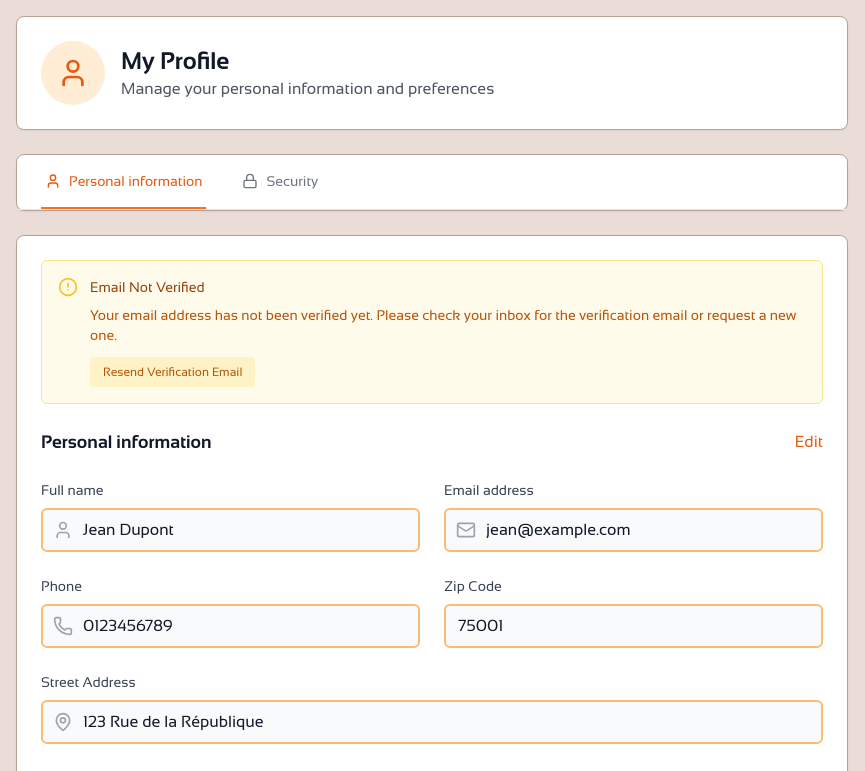
Profile Component › Personal Information Tab - Edit Mode › should show Save and Cancel buttons when editing and handle cancel correctly
The width and height of the screenshot is (865, 771).
Click the button "Edit": [809, 442] box [795, 430, 823, 454]
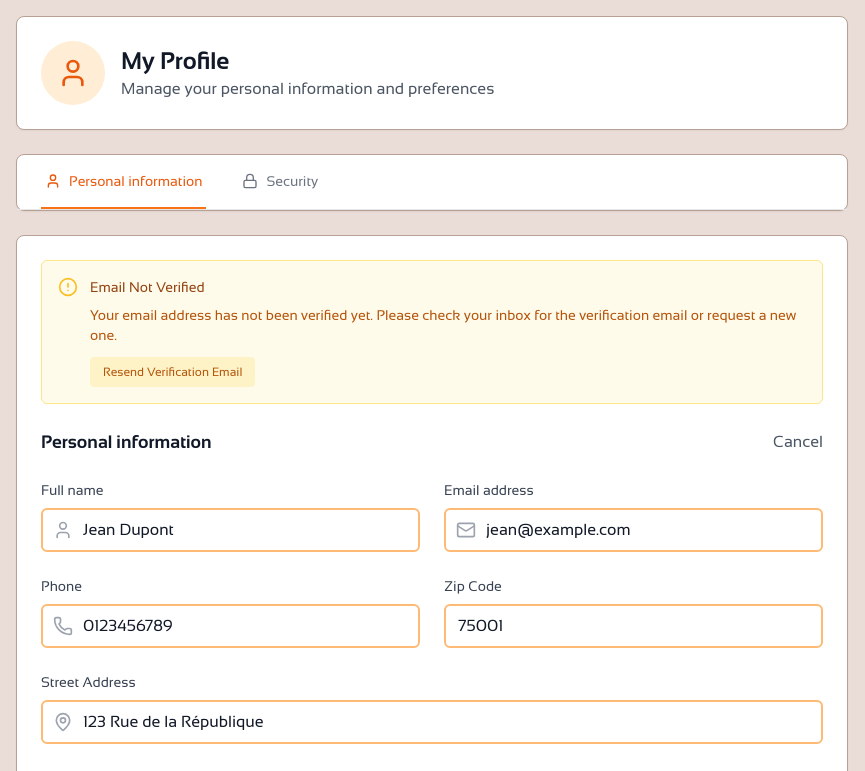
Check: the button "Cancel" is shown
Tester le bouton Cancel
Click the button "Cancel": [798, 442] box [773, 430, 823, 454]
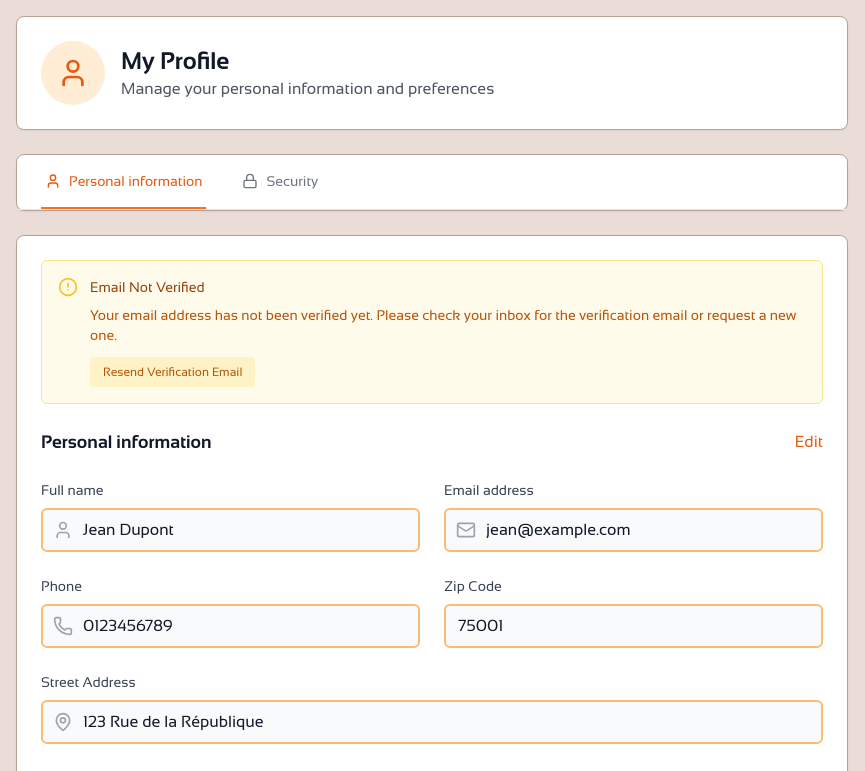
Check: the button "Edit" is shown, box [795, 430, 823, 454]
Check: the button "Cancel" is gone
